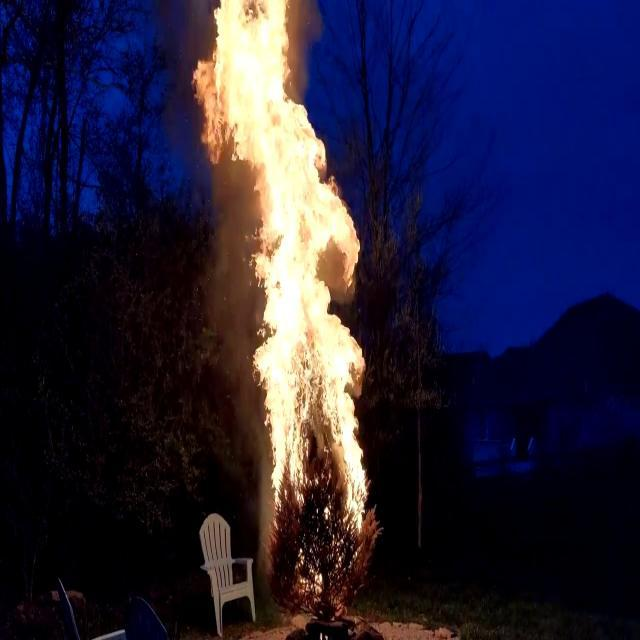Fire: (186, 1, 374, 540)
